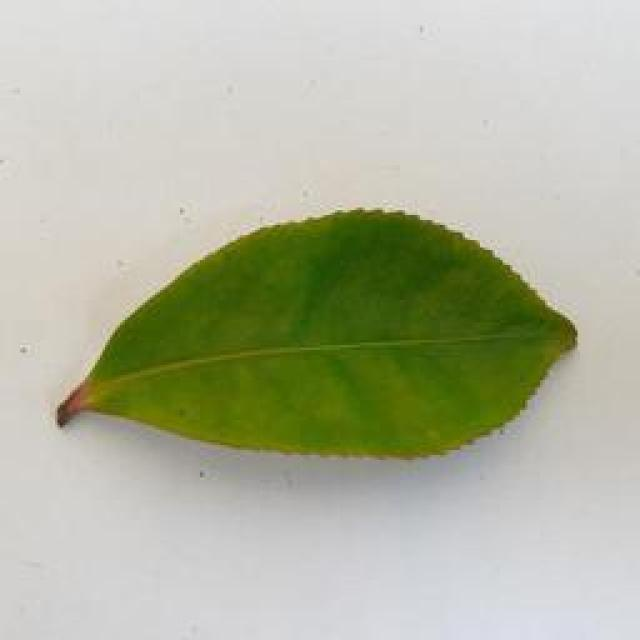Healthy: (54, 208, 592, 469)
